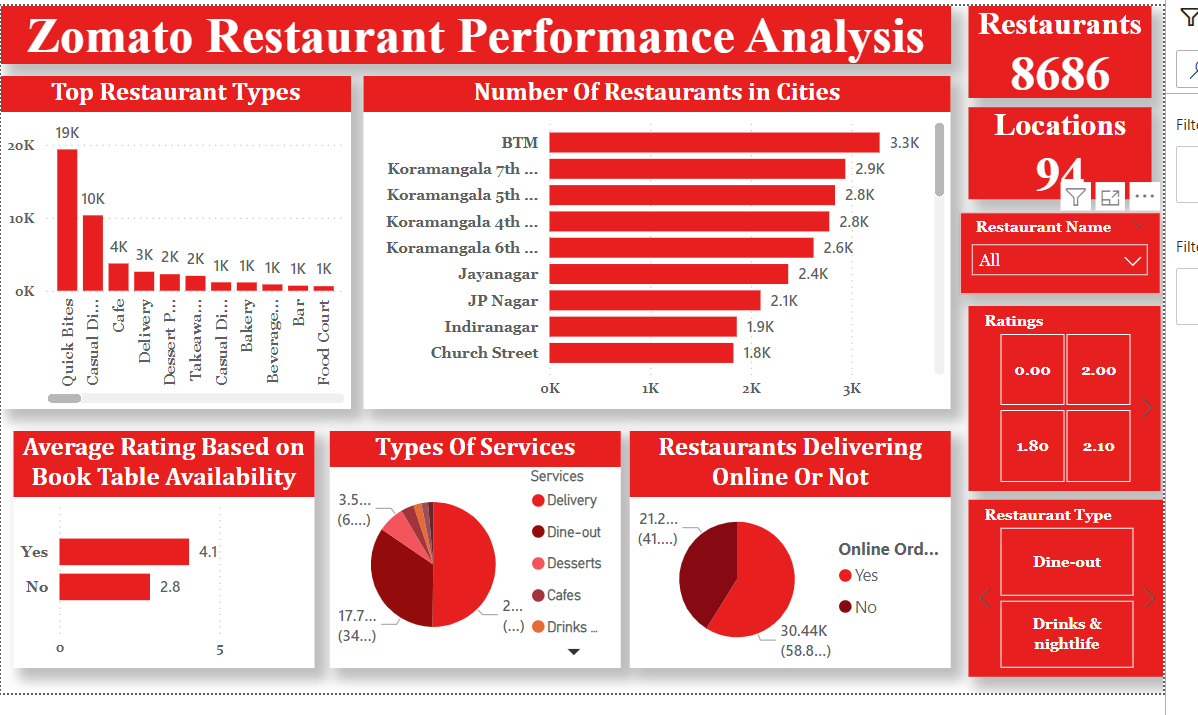

The page's visual inventory and layout, read from the dashboard file:
{"tool":"powerbi","page":{"name":"Page 1","canvas":[930,550],"ordinal":0},"visuals":[{"type":"textbox","box":[10,0,280,280],"z":0},{"type":"textbox","title":"Zomato Restaurant Performance Analysis","box":[0,0,760,47],"z":1000},{"type":"card","title":"Restaurants","fields":{"Values":["Count(zomato_restaurants_cleaned.name)"]},"box":[774,0,147,74],"z":2000},{"type":"card","title":"Locations","fields":{"Values":["Count(zomato_restaurants_cleaned.location)"]},"box":[774,81,147,74],"z":3000},{"type":"columnChart","title":"Top Restaurant Types","fields":{"Category":["zomato_restaurants_cleaned.rest_type"],"Y":["CountNonNull(zomato_restaurants_cleaned.rest_type)"]},"box":[0,56,280,267],"z":4000},{"type":"barChart","title":"Number Of Restaurants in Cities","fields":{"Y":["CountNonNull(zomato_restaurants_cleaned.name)"],"Category":["zomato_restaurants_cleaned.rest_city"]},"box":[290,56,470,267],"z":4001},{"type":"barChart","title":"Average Rating Based on Book Table Availability","fields":{"Category":["zomato_restaurants_cleaned.book_table"],"Y":["Avg(zomato_restaurants_cleaned.rate)"]},"box":[10,340,241,190],"z":4002},{"type":"pieChart","title":"Types Of Services","fields":{"Category":["zomato_restaurants_cleaned.listed_in(type)"],"Y":["CountNonNull(zomato_restaurants_cleaned.name)"]},"box":[263,340,233,190],"z":4003},{"type":"pieChart","title":"Restaurants Delivering Online  Or Not","fields":{"Category":["zomato_restaurants_cleaned.online_order"],"Y":["CountNonNull(zomato_restaurants_cleaned.name)"]},"box":[503,340,257,190],"z":4004},{"type":"slicer","fields":{"Values":["zomato_restaurants_cleaned.name"]},"box":[767,165,161,66],"z":4005},{"type":"slicer","fields":{"Values":["zomato_restaurants_cleaned.rate"]},"box":[774,240,154,148],"z":4006},{"type":"slicer","fields":{"Values":["zomato_restaurants_cleaned.listed_in(type)"]},"box":[774,395,156,142],"z":4007}]}

Visuals, with their boxes in screenshot pixels (x1, y1, x2, y2):
textbox: x1=0, y1=0, x2=350, y2=356
"Zomato Restaurant Performance Analysis" textbox: x1=0, y1=0, x2=947, y2=60
"Restaurants" card: x1=965, y1=0, x2=1151, y2=94
"Locations" card: x1=965, y1=103, x2=1151, y2=197
"Top Restaurant Types" columnChart: x1=0, y1=71, x2=337, y2=410
"Number Of Restaurants in Cities" barChart: x1=350, y1=71, x2=947, y2=410
"Average Rating Based on Book Table Availability" barChart: x1=0, y1=432, x2=300, y2=673
"Types Of Services" pieChart: x1=315, y1=432, x2=611, y2=673
"Restaurants Delivering Online  Or Not" pieChart: x1=620, y1=432, x2=947, y2=673
slicer - zomato_restaurants_cleaned.name: x1=956, y1=210, x2=1160, y2=293
slicer - zomato_restaurants_cleaned.rate: x1=965, y1=305, x2=1160, y2=493
slicer - zomato_restaurants_cleaned.listed_in(type): x1=965, y1=502, x2=1163, y2=682
